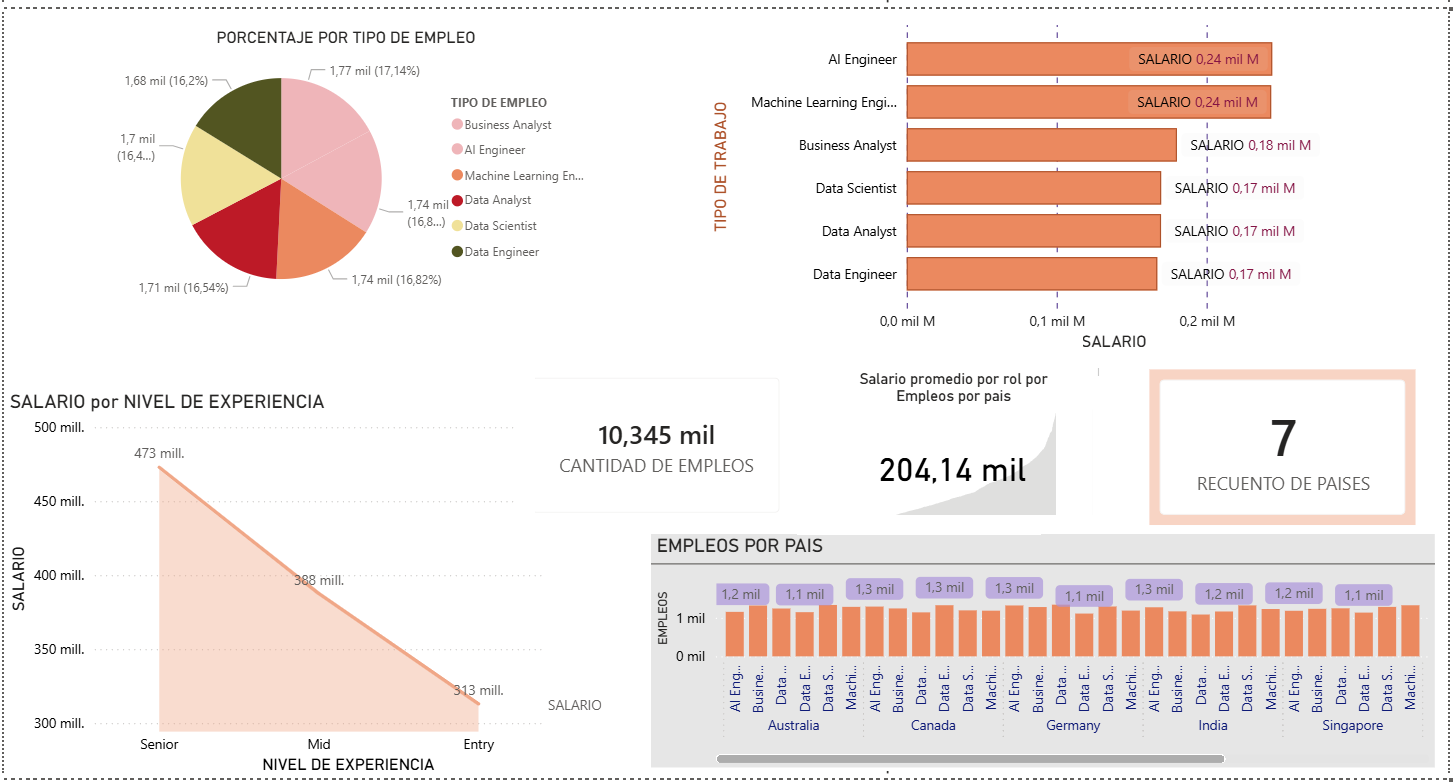

Layout of this report page (visuals, bound fields, positions):
{"tool":"powerbi","page":{"name":"DASHBOARD FINAL","canvas":[1280,720],"ordinal":0},"visuals":[{"type":"stackedAreaChart","fields":{"Category":["AI Job Market Dataset.experience_level"],"Y":["Sum(AI Job Market Dataset.salary)"]},"box":[0,375.1,534.7,344.9],"z":0},{"type":"kpi","fields":{"Indicator":["Avg(AI Job Market Dataset.salary)"],"TrendLine":["AI Job Market Dataset.salary"]},"box":[573.7,344,196,145.4],"z":1},{"type":"clusteredBarChart","fields":{"Category":["AI Job Market Dataset.job_title"],"Y":["Sum(AI Job Market Dataset.salary)"]},"box":[704.9,12.4,575.5,325.4],"z":2},{"type":"cardVisual","fields":{"Data":["CountNonNull(AI Job Market Dataset.job_title)"]},"box":[1024.1,344,244.7,144.5],"z":4},{"type":"lineStackedColumnComboChart","title":"EMPLEOS POR PAIS","fields":{"Category":["AI Job Market Dataset.country","AI Job Market Dataset.job_title"],"Y":["Sum(AI Job Market Dataset.job_openings)"]},"box":[573.7,502.8,695.2,207.5],"z":5},{"type":"pieChart","title":"PORCENTAJE POR TIPO DE EMPLEO","fields":{"Category":["AI Job Market Dataset.job_title"],"Y":["CountNonNull(AI Job Market Dataset.job_title)"]},"box":[0,12.4,439.8,287.3],"z":6},{"type":"cardVisual","fields":{"Data":["Count(AI Job Market Dataset.country)"]},"box":[430,102.9,242.1,144.5],"z":7}]}

Visuals, with their boxes on the page's 1280x720 design canvas (x1, y1, x2, y2). These are canvas units, not pixel positions in the 1454x783 screenshot, which may show the page scaled, cropped or inside an application window:
stackedAreaChart - AI Job Market Dataset.experience_level x Sum(AI Job Market Dataset.salary): pyautogui.locateOnScreen(0, 375, 535, 720)
kpi - Avg(AI Job Market Dataset.salary) x AI Job Market Dataset.salary: pyautogui.locateOnScreen(574, 344, 770, 489)
clusteredBarChart - AI Job Market Dataset.job_title x Sum(AI Job Market Dataset.salary): pyautogui.locateOnScreen(705, 12, 1280, 338)
cardVisual - CountNonNull(AI Job Market Dataset.job_title): pyautogui.locateOnScreen(1024, 344, 1269, 488)
"EMPLEOS POR PAIS" lineStackedColumnComboChart: pyautogui.locateOnScreen(574, 503, 1269, 710)
"PORCENTAJE POR TIPO DE EMPLEO" pieChart: pyautogui.locateOnScreen(0, 12, 440, 300)
cardVisual - Count(AI Job Market Dataset.country): pyautogui.locateOnScreen(430, 103, 672, 247)
